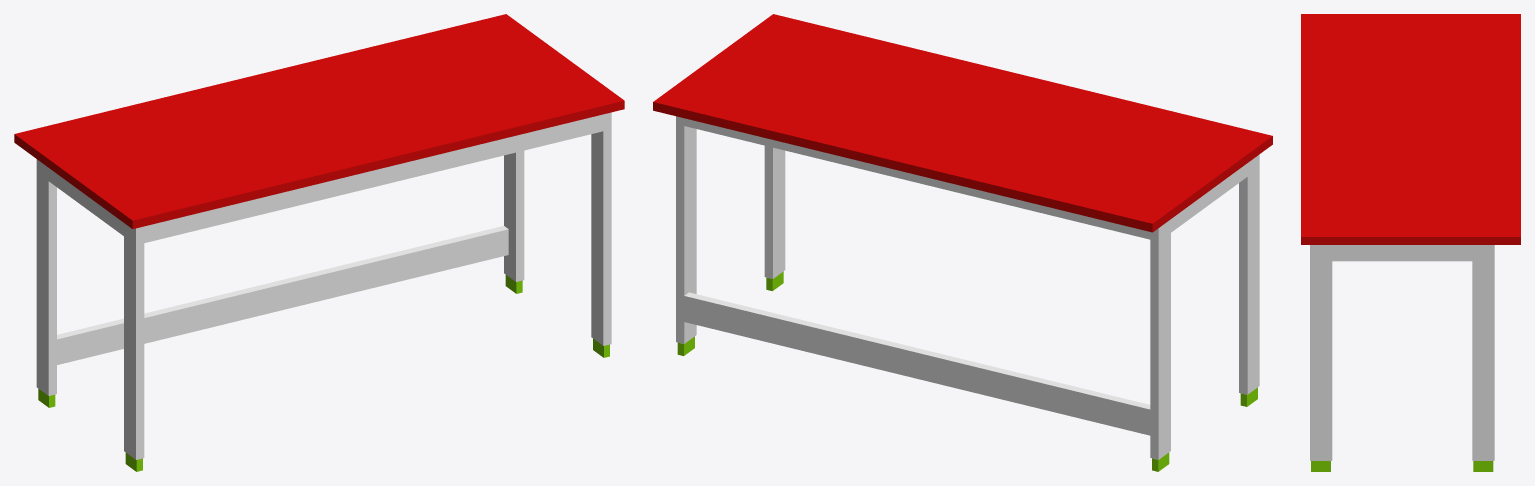
The model's file is Desk01.fbx.
The picture shows the model from 3 angles, left to right: view 1: azimuth 30°, elevation 25°; view 2: azimuth 150°, elevation 25°; view 3: azimuth 270°, elevation 25°; orthographic projection. The views are drawn at different scales.
Parts seen in each view (by area): view 1: Desk01; view 2: Desk01; view 3: Desk01.
Part boxes in pixels (box(x1,y1,x2,y2)): Desk01: box(14, 14, 624, 471); Desk01: box(653, 14, 1272, 471); Desk01: box(1301, 14, 1520, 471).
Size of the model in its own units: 150 by 75.01 by 62.5.
